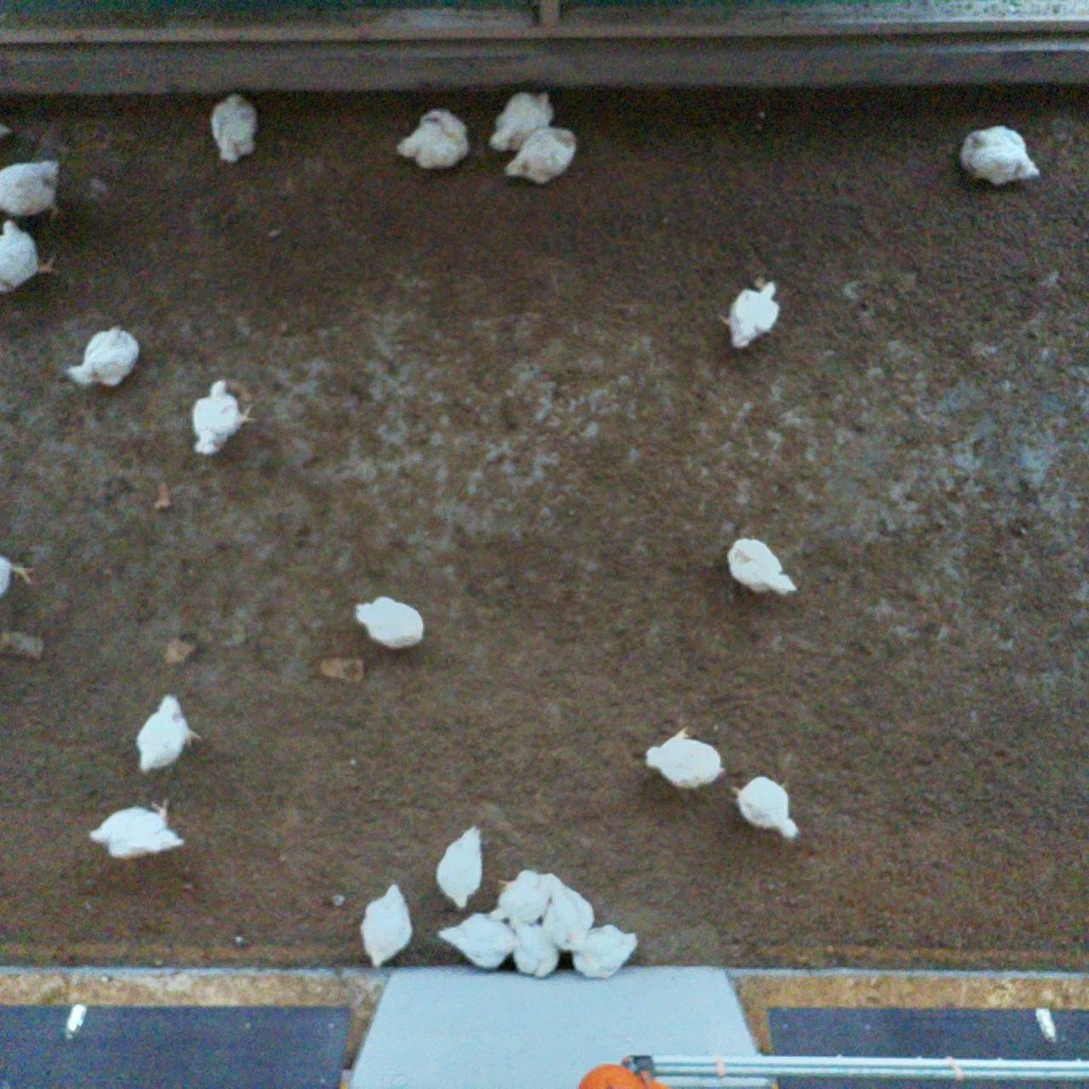chicken: (83, 793, 188, 864), (956, 119, 1045, 195), (132, 690, 204, 781), (389, 102, 475, 176), (639, 724, 729, 794), (186, 375, 258, 460), (62, 323, 144, 395), (357, 876, 417, 973), (728, 772, 805, 847), (500, 121, 582, 189), (0, 217, 64, 302), (484, 84, 559, 155), (716, 278, 787, 353), (436, 911, 520, 974), (350, 591, 428, 658), (432, 824, 488, 915), (725, 534, 801, 601), (569, 920, 644, 985), (202, 87, 262, 167), (0, 155, 67, 225), (543, 874, 596, 957), (486, 866, 556, 927), (506, 914, 565, 982), (0, 549, 38, 602)
